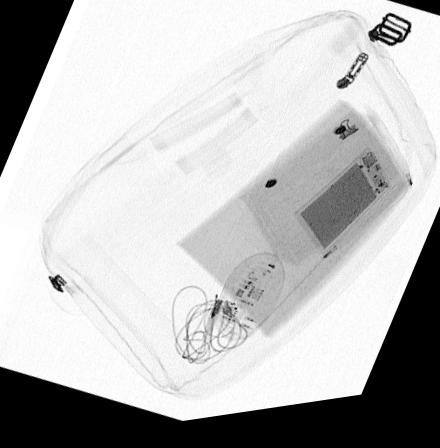Powerbank: (293, 159, 393, 262)
